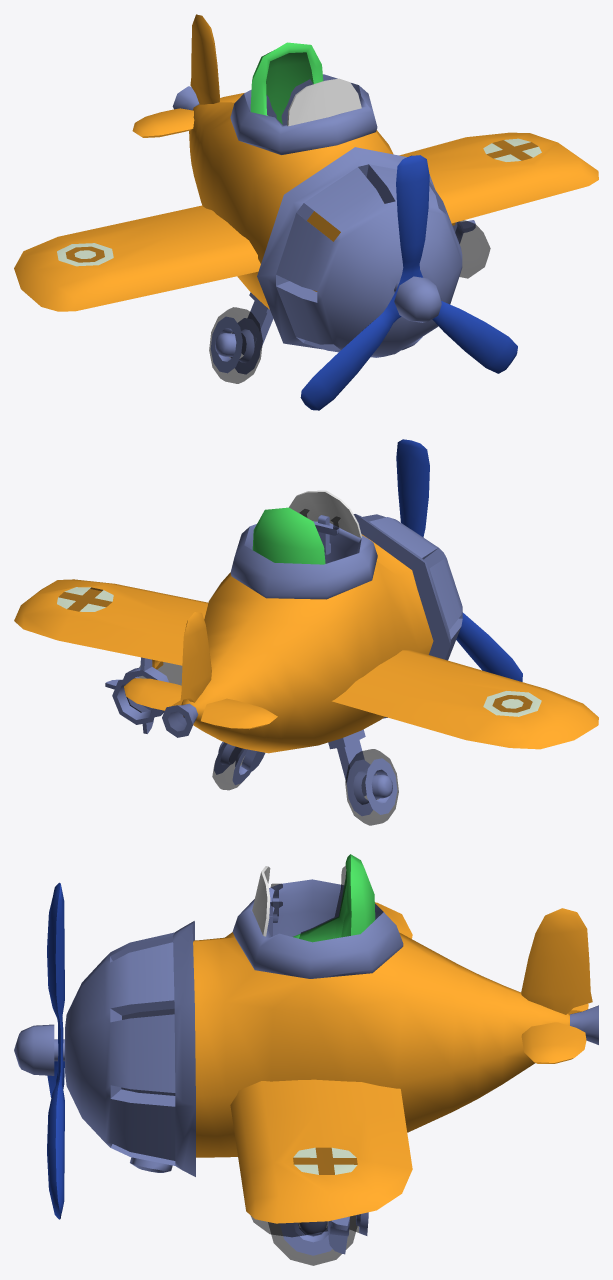
The picture shows the model from 3 angles, top to bottom: view 1: azimuth 30°, elevation 25°; view 2: azimuth 150°, elevation 25°; view 3: azimuth 270°, elevation 25°; orthographic projection. The views are drawn at different scales.
Parts seen in each view (by area): view 1: plane; view 2: plane; view 3: plane.
Part boxes in pixels (x1,y1,x2,y2): plane: (14, 14, 598, 410); plane: (14, 439, 598, 825); plane: (14, 854, 598, 1265).
Bounding box in the file's own units: 245 × 130 × 189.
